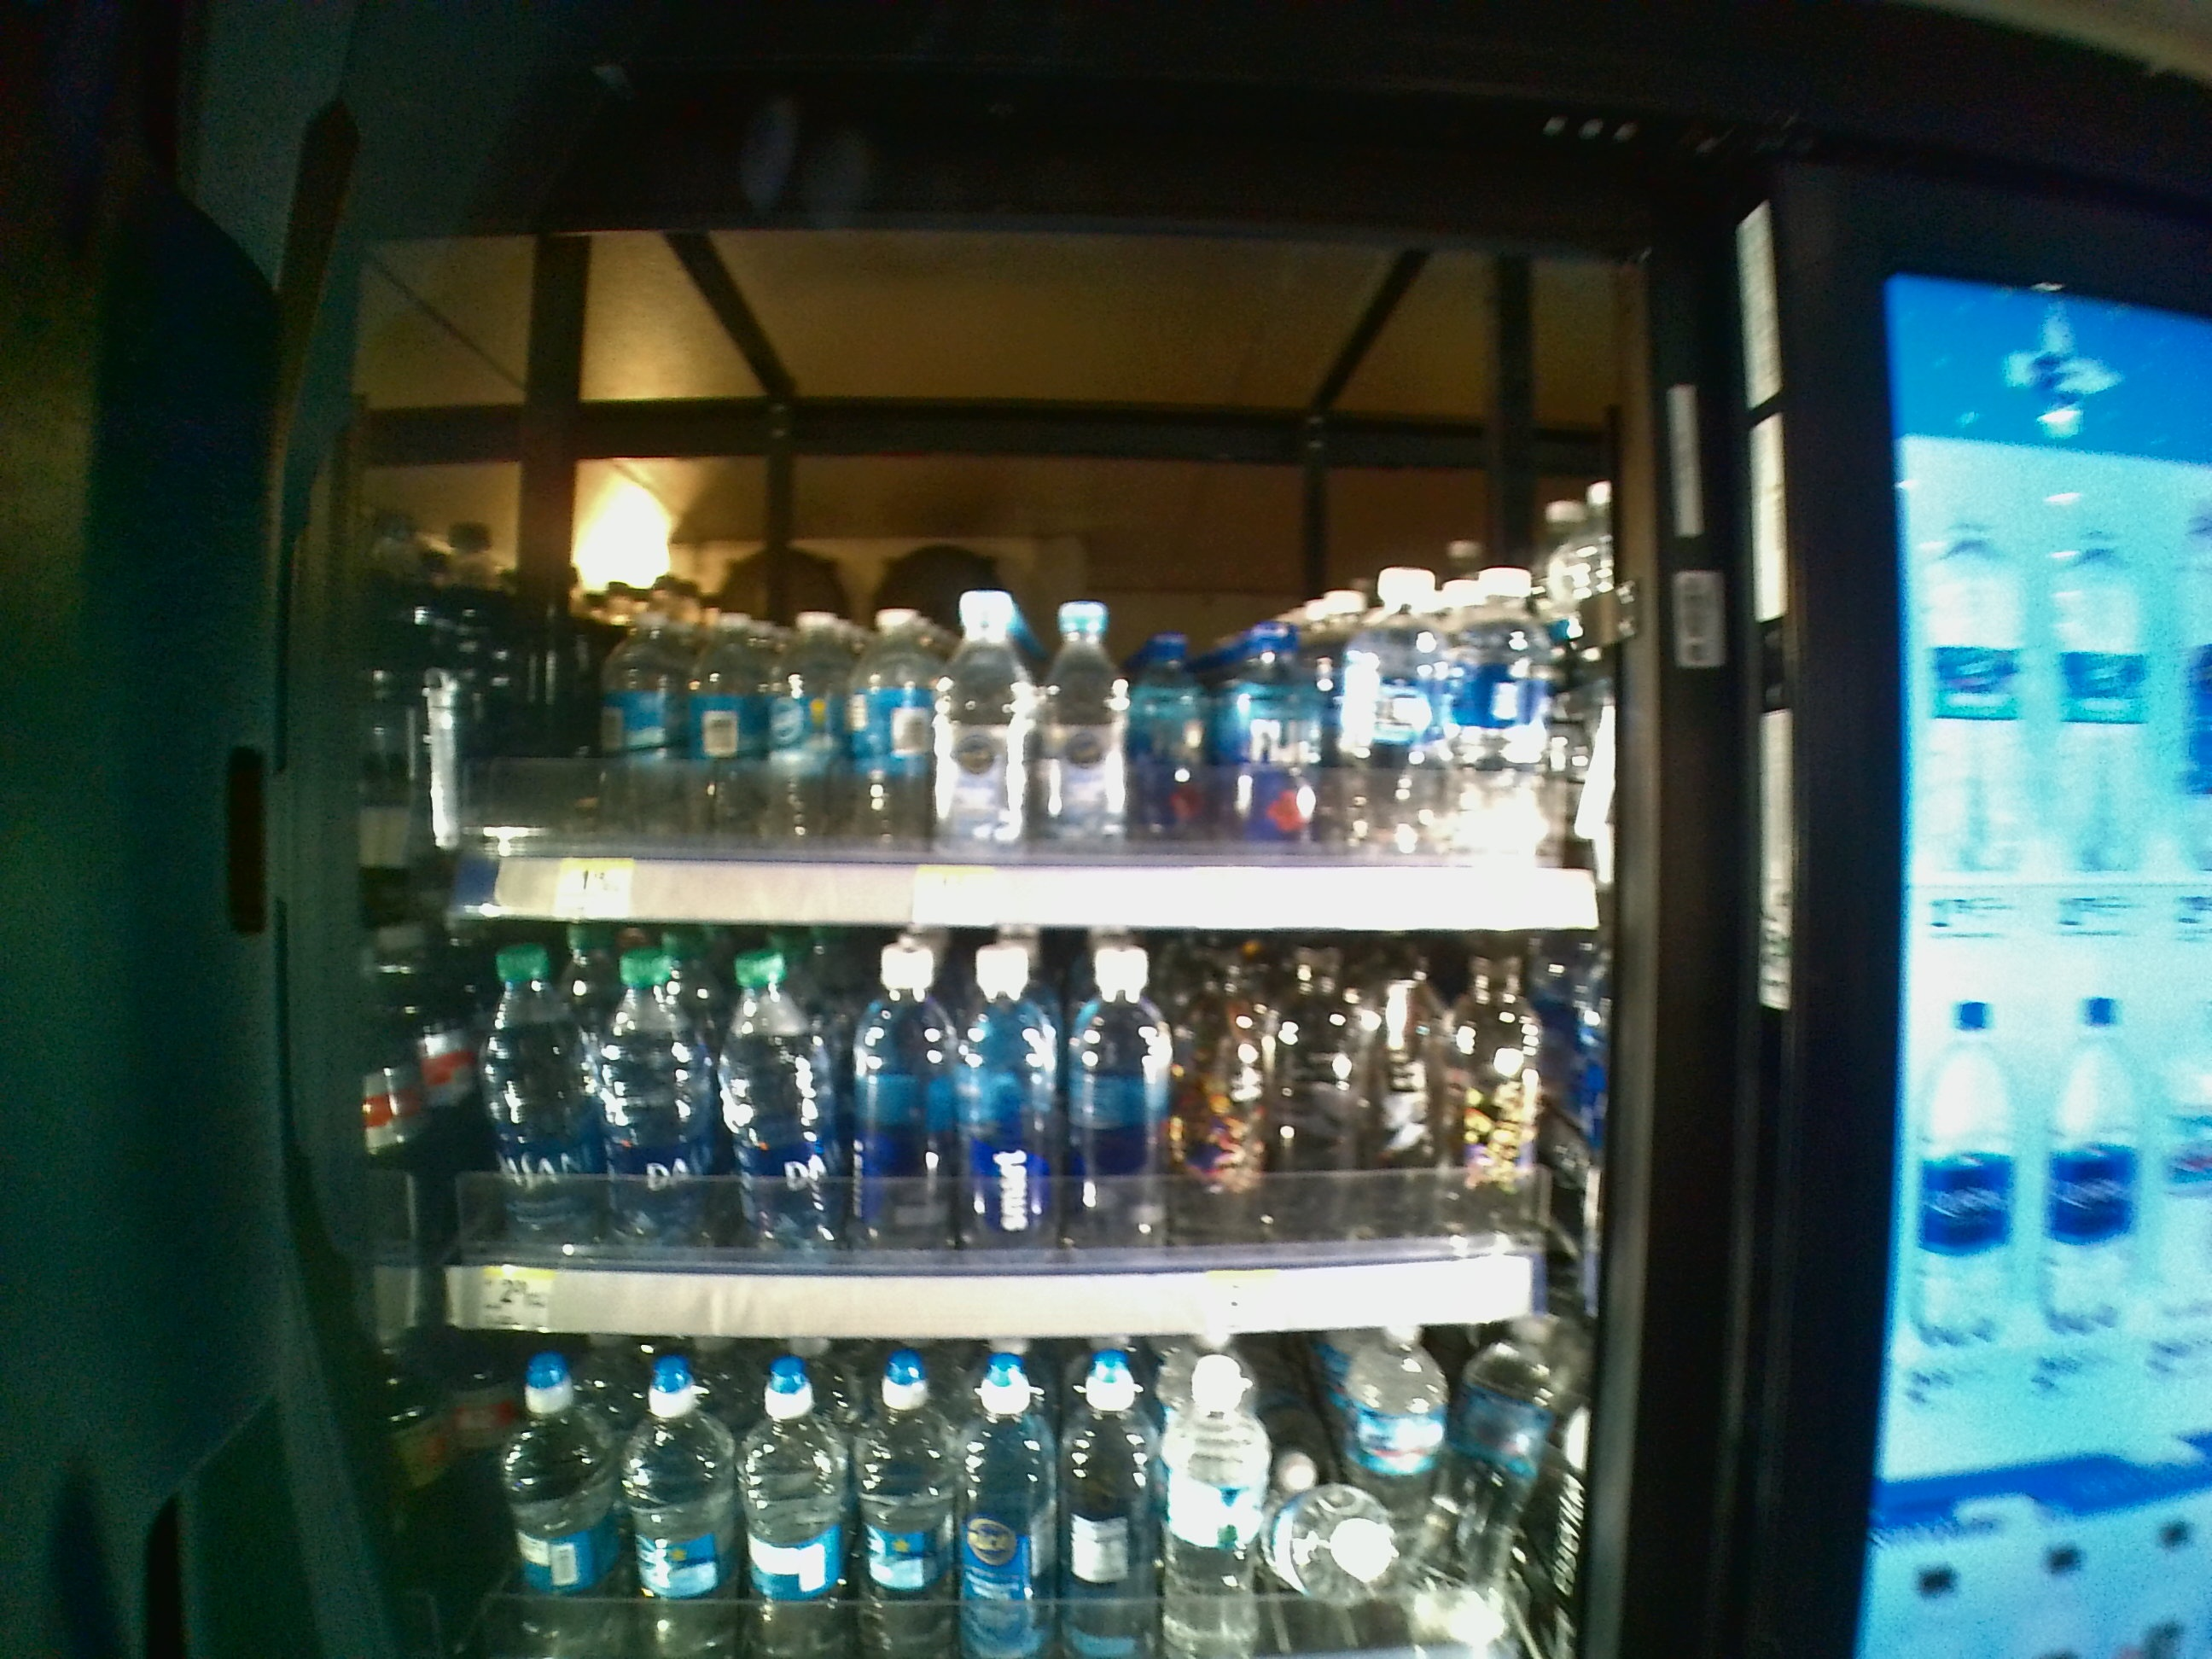Shelf: (380, 408, 1615, 934), (380, 934, 1616, 1342)
